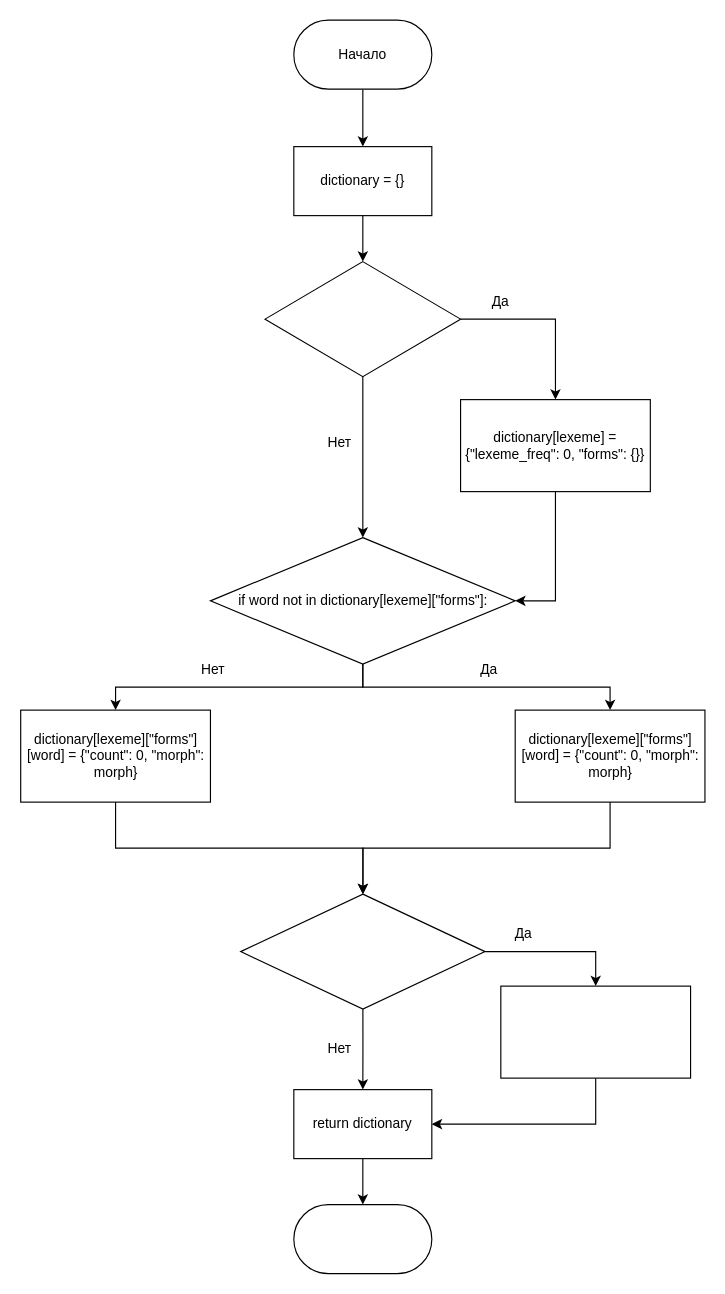
Image size: 725x1294. Some labels were removed from this diagram. The centre of each missing label's shape, as x and y in pixels:
dictionary[lexeme][lexeme_freq] += 1: the point at 595,1031
if lexeme not in dictionary: the point at 362,318
if word == lexeme:: the point at 362,951
Конец: the point at 362,1238
